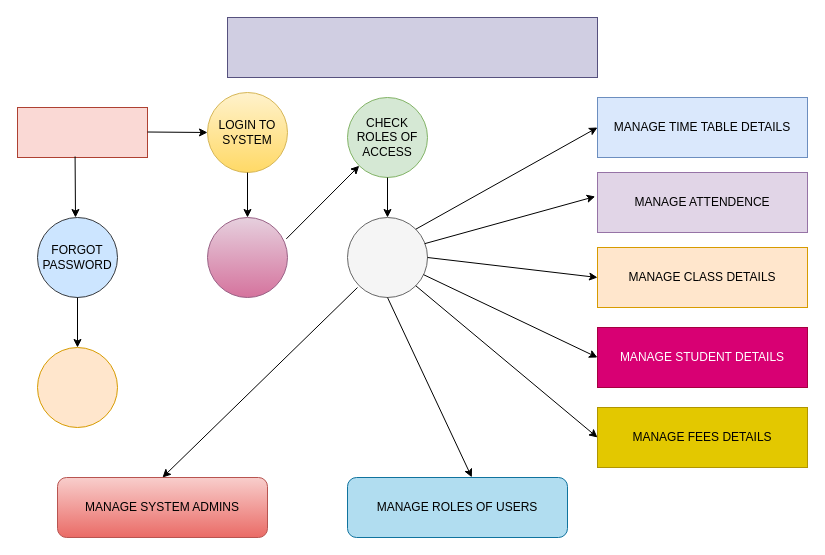
This 825x555 diagram has some shape labels left out. Here are the shapes that lost their labels. From the top down, the centre of each, then its label:
[412,47]: STUDENT INFORMATION SYSTEM
[82,132]: ADMIN
[247,257]: CHECK CREDENTIAL
[387,257]: MANAGE MODULES
[77,387]: SEND EMAIL TO USER
